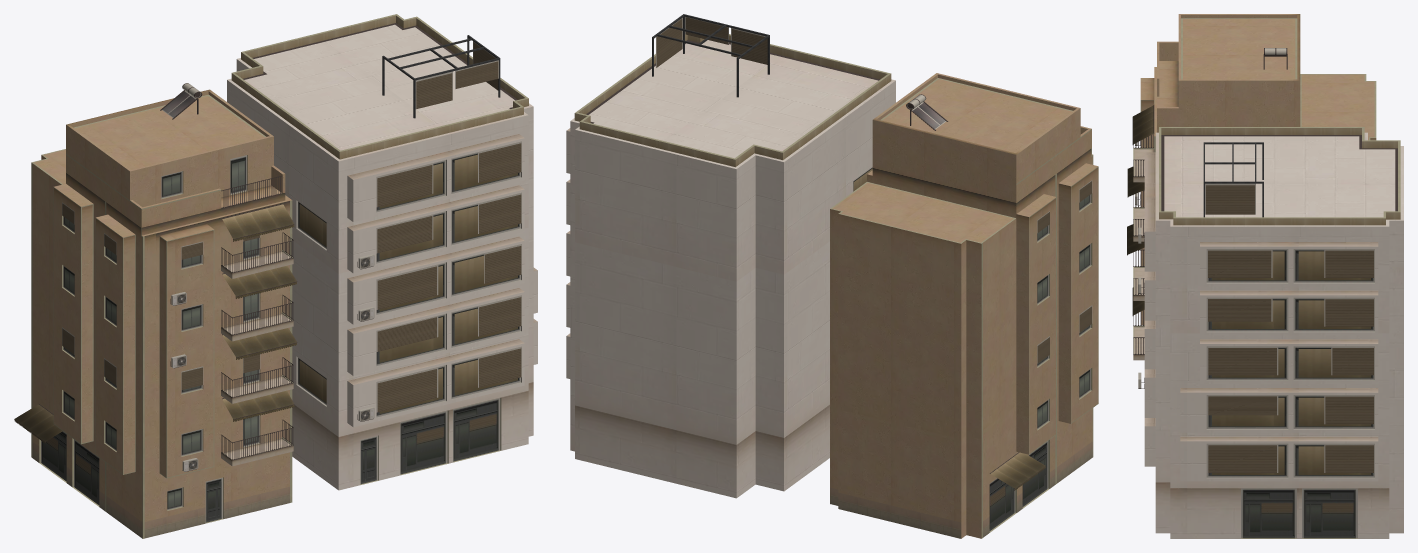
The model's file is it-sf-medkit.glb.
The picture shows the model from 3 angles, left to right: view 1: azimuth 30°, elevation 25°; view 2: azimuth 150°, elevation 25°; view 3: azimuth 270°, elevation 25°; orthographic projection. The views are drawn at different scales.
Visible parts, largest first — view 1: Material2; view 2: Material2; view 3: Material2.
Boxes of the visible parts, <box> form: Material2: <box>14,14,537,538</box>; Material2: <box>566,14,1098,538</box>; Material2: <box>1127,14,1403,538</box>.
Size of the model in its own units: 1088 by 903 by 633.
Materials: 21 (17 with a texture image).
